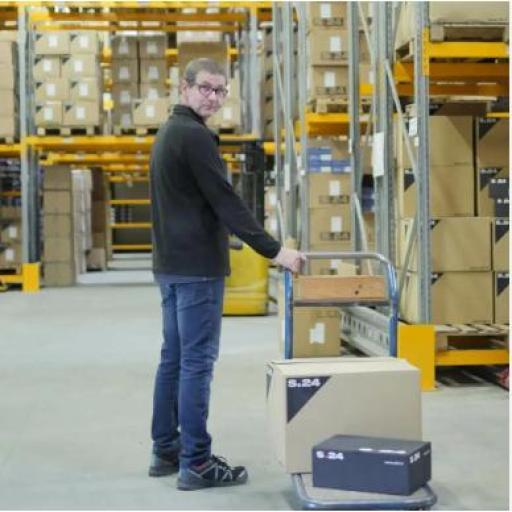safety_boots: (169, 453, 267, 494), (144, 445, 193, 478)
